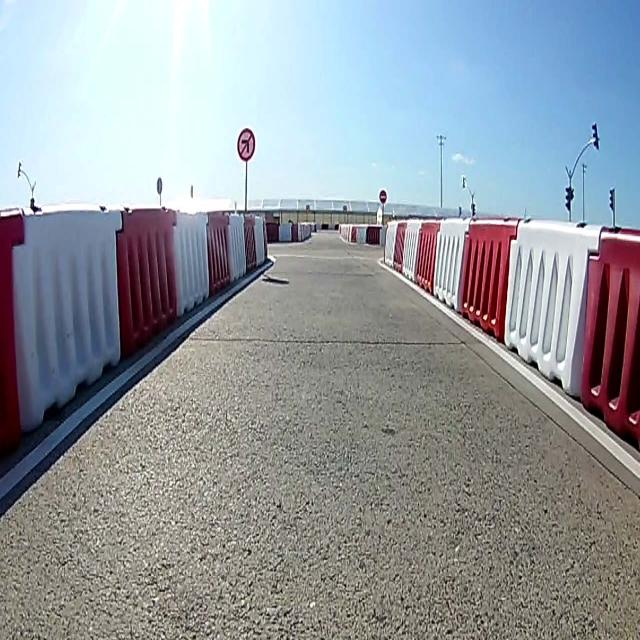girisyok: (379, 186, 387, 204)
soladonulmez: (237, 128, 255, 160)
